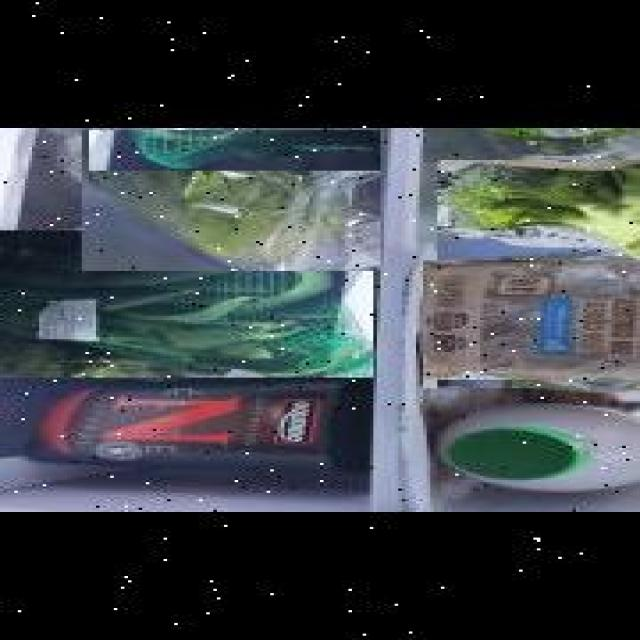bread: (416, 261, 640, 388)
broccoli: (434, 160, 640, 269)
green_beans: (0, 230, 370, 378)
milk: (434, 403, 640, 493)
salad: (77, 130, 375, 271)
